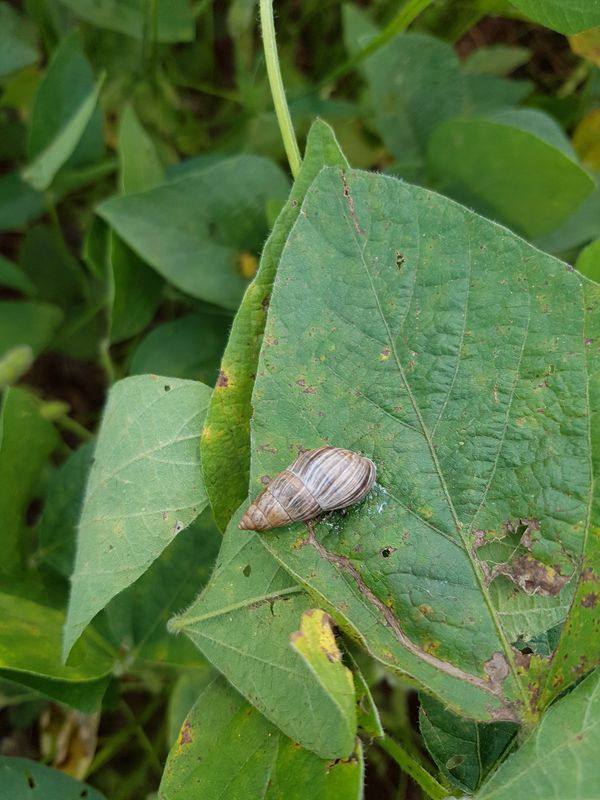Gastropoda: (219, 422, 399, 572)
